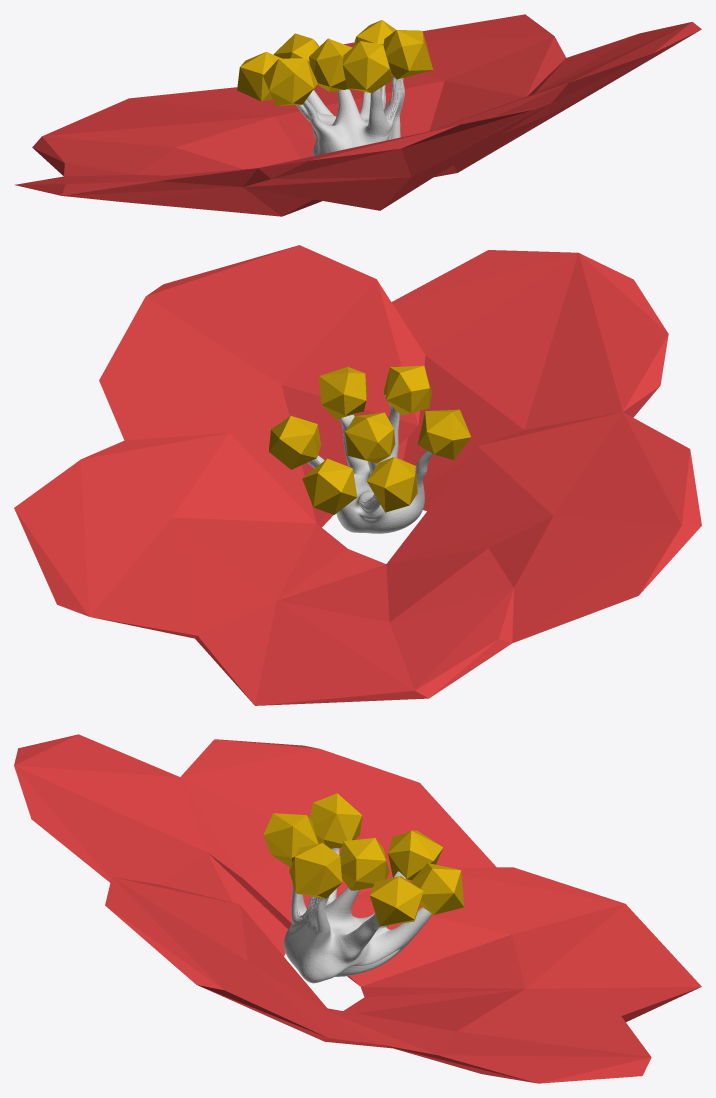
File: singleblossom.glb
3 views of the same model, one above another, from view 1: azimuth 30°, elevation 25°; view 2: azimuth 150°, elevation 25°; view 3: azimuth 270°, elevation 25° (orthographic). The views are drawn at different scales.
Visible parts, largest first — view 1: BK_blossom; view 2: BK_blossom; view 3: BK_blossom.
Part boxes in pixels (x1,y1,x2,y2): BK_blossom: (15, 14, 701, 216); BK_blossom: (14, 245, 701, 705); BK_blossom: (14, 734, 701, 1083).
Bounding box in the file's own units: 0.6964 × 0.2388 × 0.6652.
